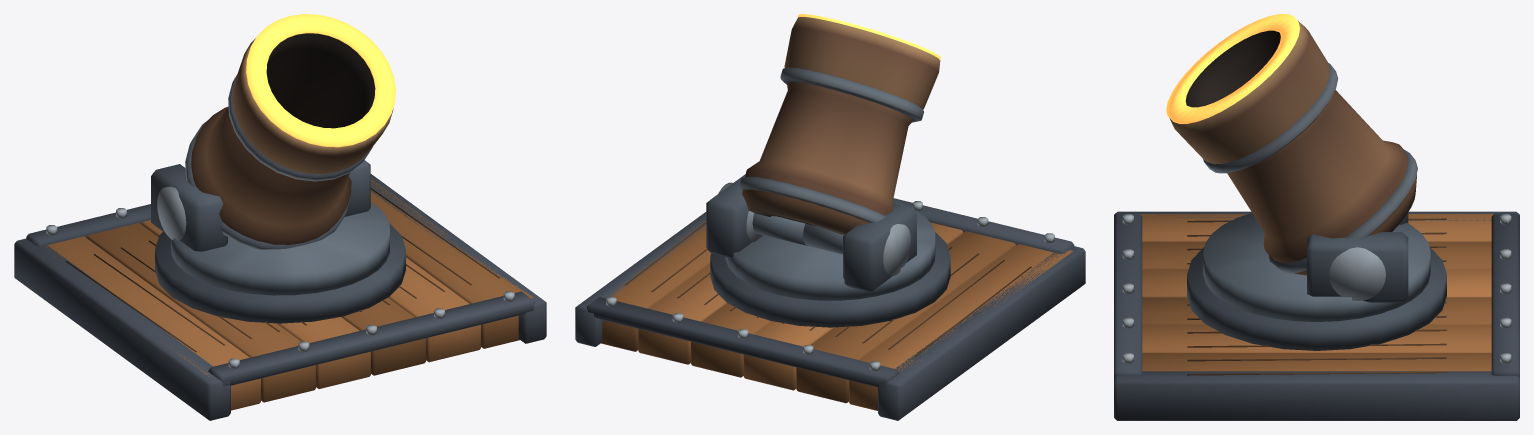
The model's file is arma-mortero.glb.
3 renders of one model, left to right at view 1: azimuth 30°, elevation 25°; view 2: azimuth 150°, elevation 25°; view 3: azimuth 270°, elevation 25°, orthographic. The views are drawn at different scales.
Parts seen in each view (by area): view 1: Base, Tube, Head; view 2: Base, Tube, Head; view 3: Base, Tube, Head.
Boxes of the visible parts, <box> form: Base: <box>14,174,546,420</box>; Tube: <box>185,14,395,249</box>; Head: <box>151,160,389,295</box>; Base: <box>575,198,1085,420</box>; Tube: <box>739,14,940,254</box>; Head: <box>706,174,935,300</box>; Base: <box>1114,211,1519,420</box>; Tube: <box>1166,14,1417,275</box>; Head: <box>1203,212,1430,321</box>.
Bounding box in the file's own units: 1 × 0.8448 × 1.
